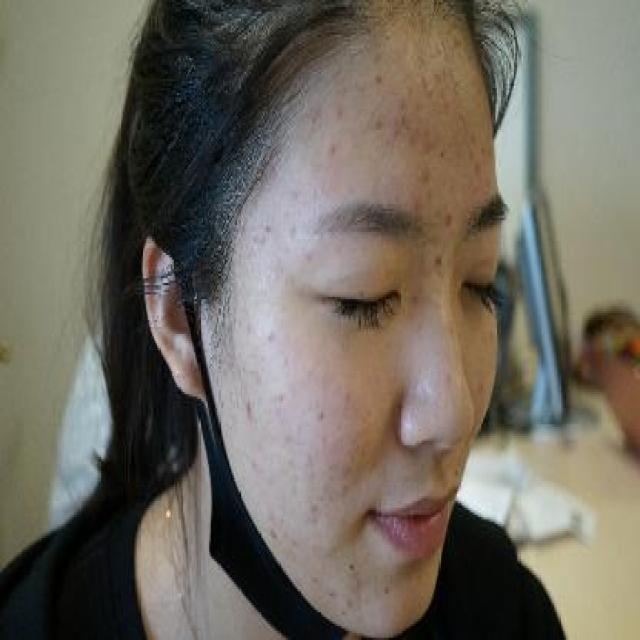acne: (412, 150, 436, 196), (238, 389, 264, 426), (439, 200, 459, 235), (323, 134, 342, 166)
